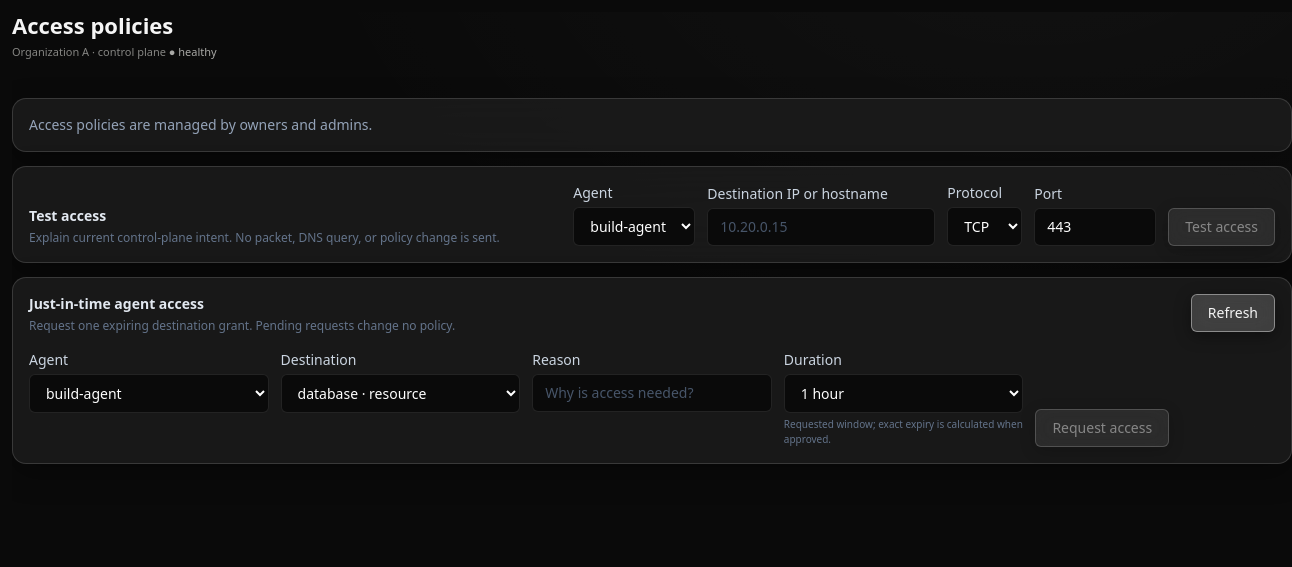
released F10 JIT agent access workflow › lets a scoped member request and cancel but never approve
Expected: the heading "Just-in-time agent access" is shown, [29,294,204,313]
Type "debug incident" into the field with placeholder "Why is access needed?" at (652, 393), box [532,374,772,412]
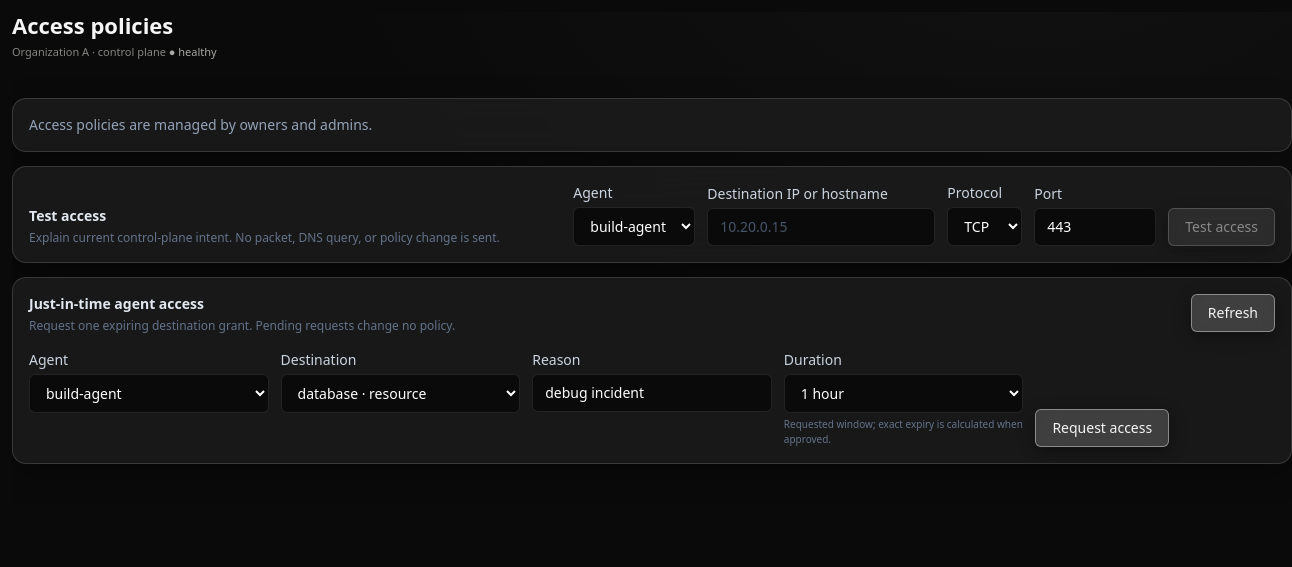
Click the button "Request access" at (1102, 428), box [1035,409,1169,447]
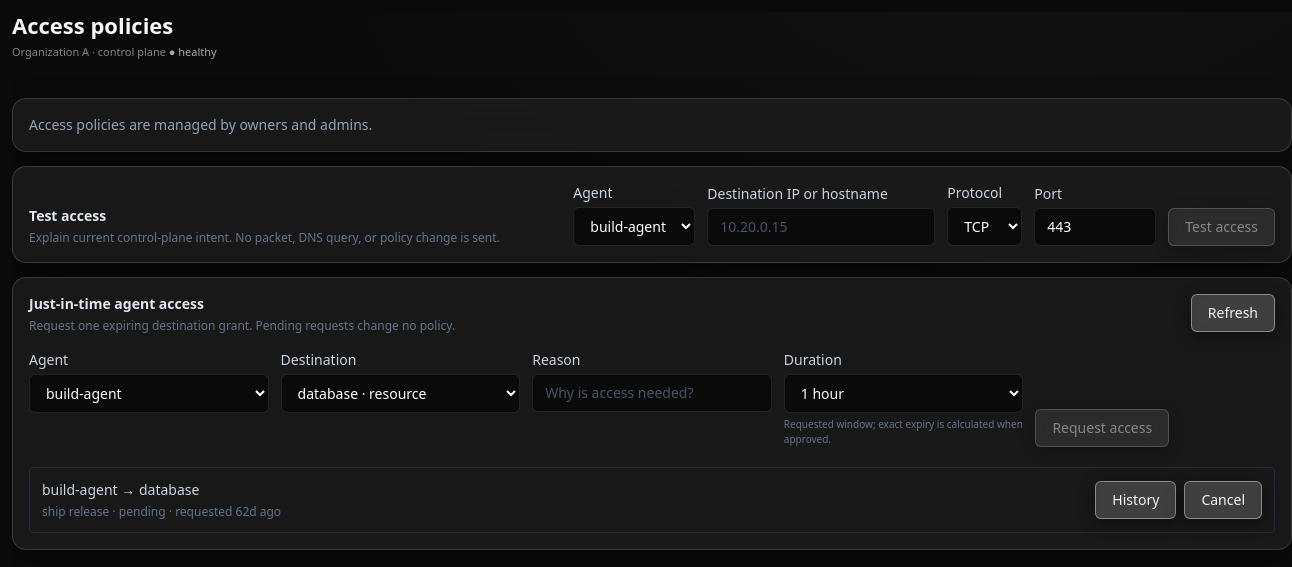
Result: the button "Cancel" is shown
Click the button "Cancel" at (1223, 500), box [1184,481,1262,519]
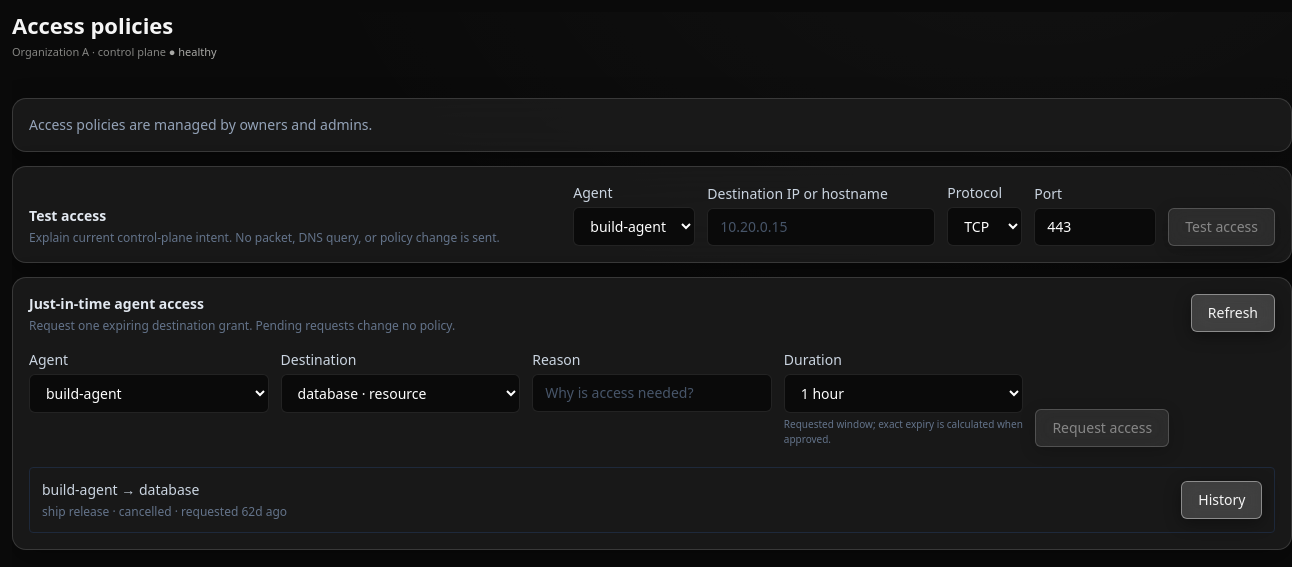
Result: the text "ship release · cancelled · requested 62d ago" is shown at [42,504,287,520]
